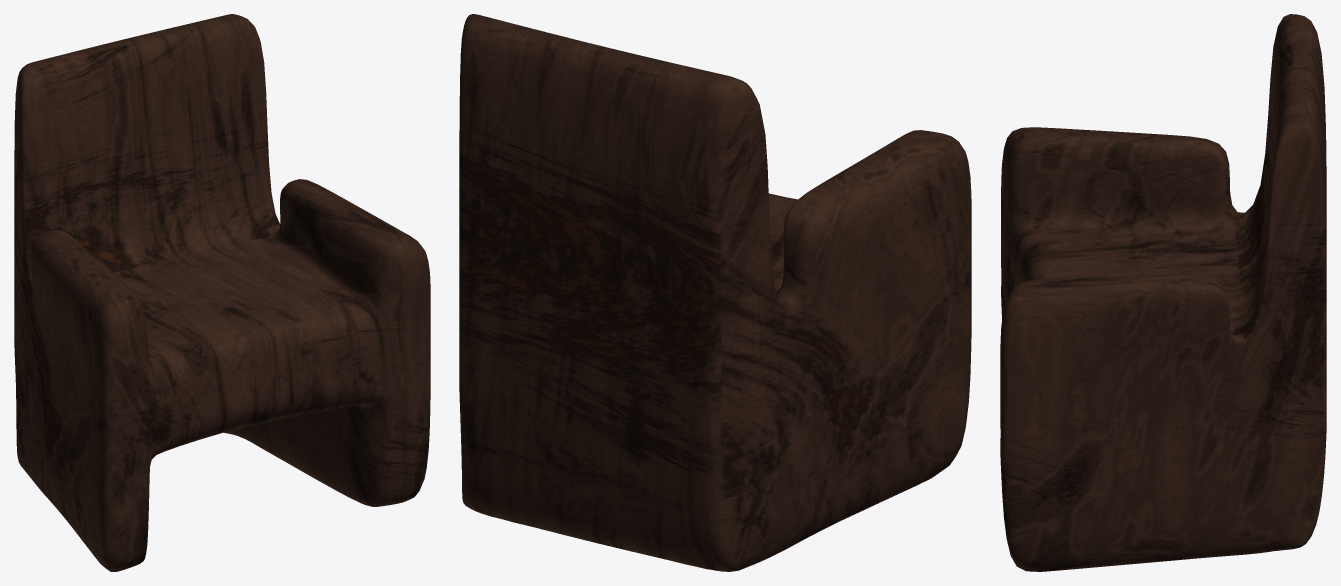
File: FatherChair.fbx
3 renders of one model, left to right at view 1: azimuth 30°, elevation 25°; view 2: azimuth 150°, elevation 25°; view 3: azimuth 270°, elevation 25°, orthographic. The views are drawn at different scales.
Parts seen in each view (by area): view 1: Chair; view 2: Chair; view 3: Chair.
Boxes of the visible parts, x1=… form: Chair: x1=14, y1=14, x2=430, y2=571; Chair: x1=459, y1=14, x2=971, y2=571; Chair: x1=1000, y1=14, x2=1326, y2=571.
Size of the model in its own units: 110 by 130 by 89.3.
1 material, 1 textured.
